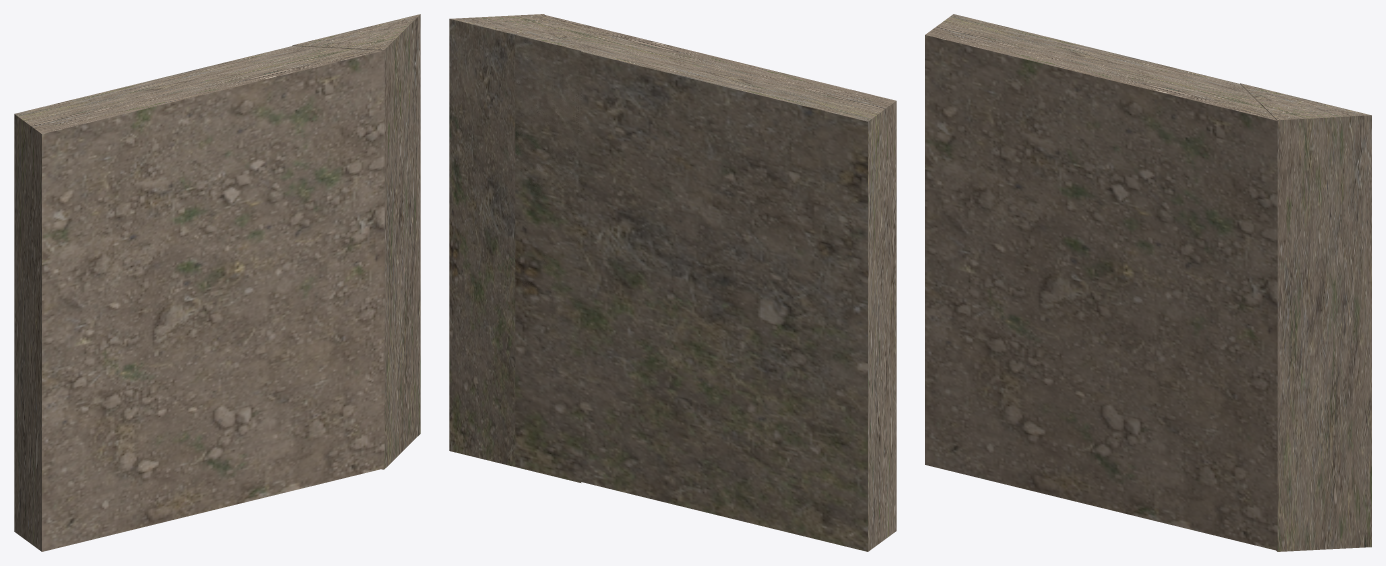
File: sloppy_plateau.obj
The picture shows the model from 3 angles, left to right: view 1: azimuth 30°, elevation 25°; view 2: azimuth 150°, elevation 25°; view 3: azimuth 330°, elevation 25°; orthographic projection. The views are drawn at different scales.
Parts seen in each view (by area): view 1: Cube.001_Cube.002; view 2: Cube.001_Cube.002; view 3: Cube.001_Cube.002.
Boxes of the visible parts, x1,y1,x2,y2 form: Cube.001_Cube.002: [14, 14, 420, 551]; Cube.001_Cube.002: [449, 14, 896, 551]; Cube.001_Cube.002: [925, 14, 1371, 551].
Size of the model in its own units: 253 by 250 by 30.
